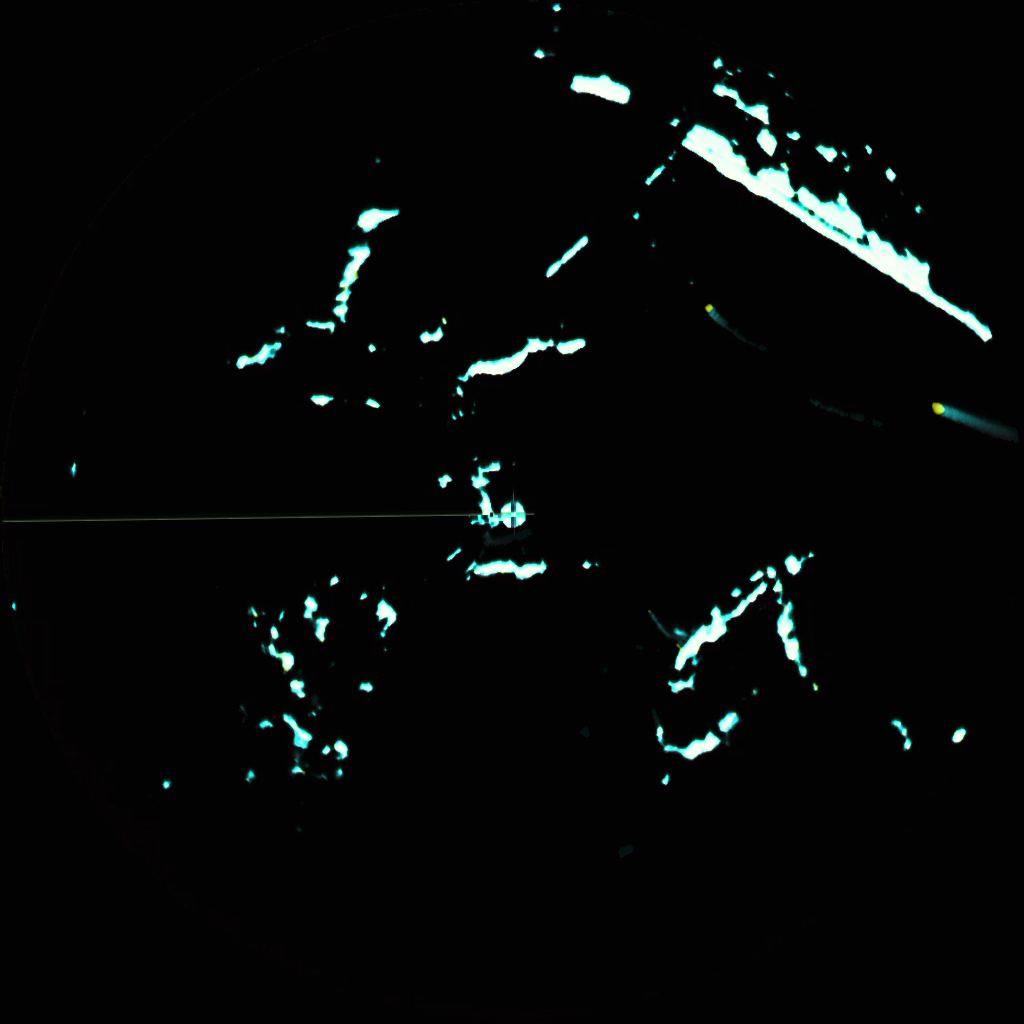B: (932, 400, 1007, 436), (643, 606, 670, 642), (705, 303, 727, 327)
